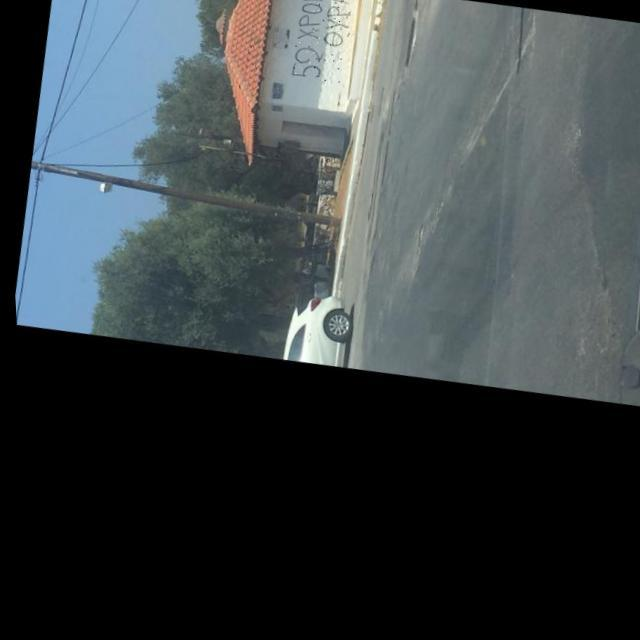-: (287, 0, 361, 88)
